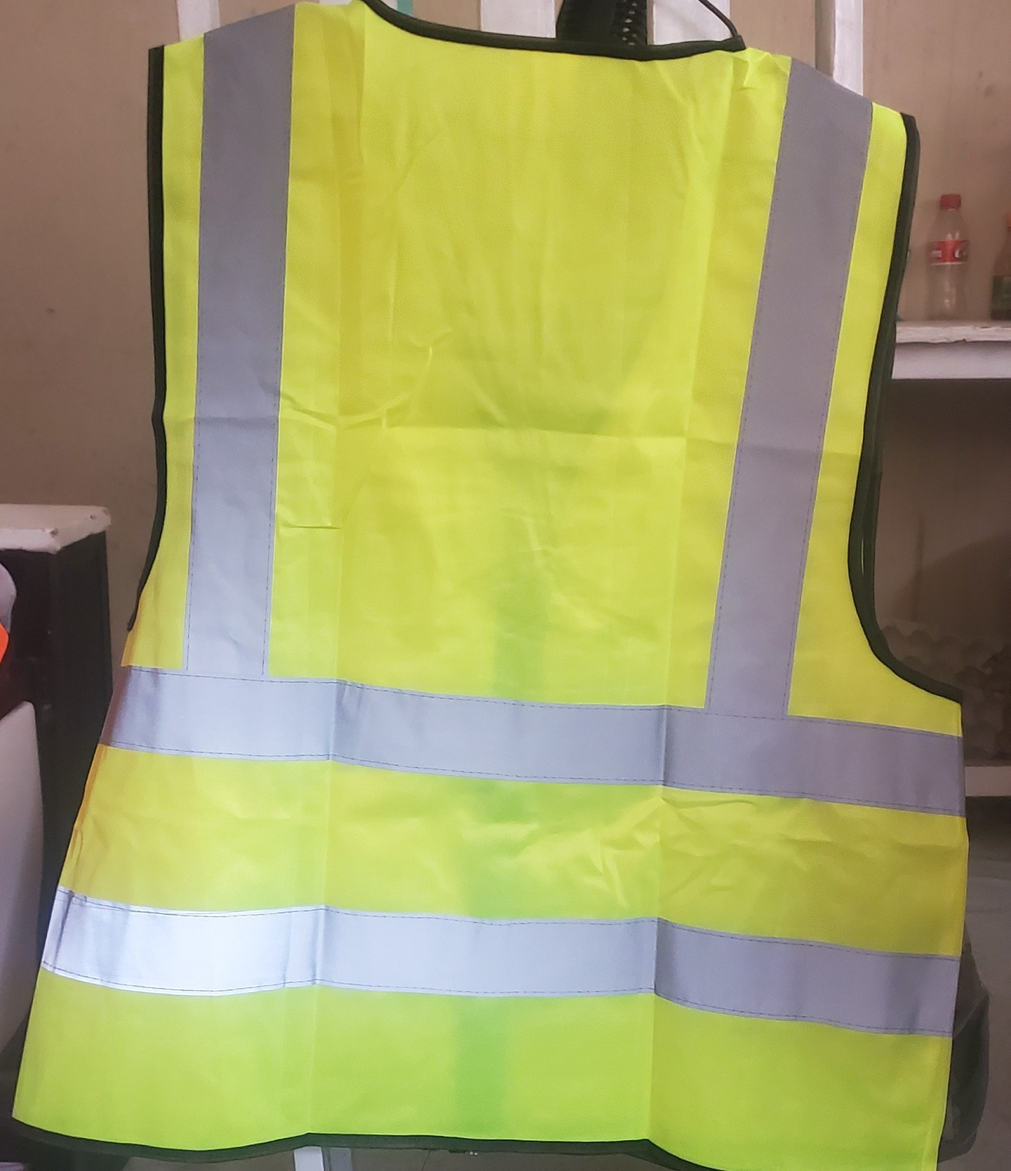vest: (2, 10, 961, 1171)
